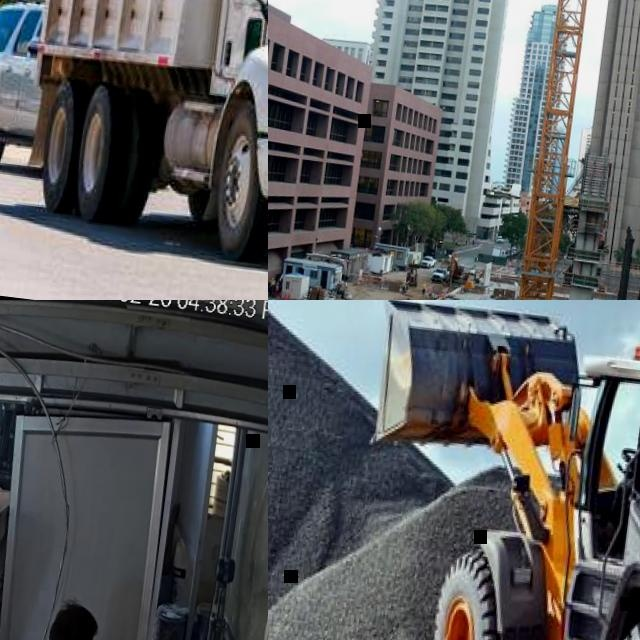NO-Hardhat: (48, 598, 100, 640)
Person: (421, 281, 427, 295)
Safety Cone: (282, 292, 289, 300), (414, 296, 419, 300), (392, 297, 395, 300)
Safety Vest: (422, 284, 426, 289)
machinery: (322, 300, 640, 640), (14, 0, 268, 290), (443, 248, 469, 289), (404, 263, 420, 287)
vehicle: (0, 0, 55, 174), (431, 266, 449, 282), (420, 255, 436, 269)
